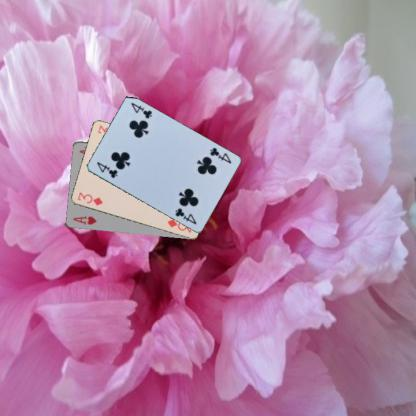3d: (75, 189, 104, 207)
4c: (94, 160, 119, 180), (207, 145, 232, 165)
Ah: (70, 213, 98, 227)
